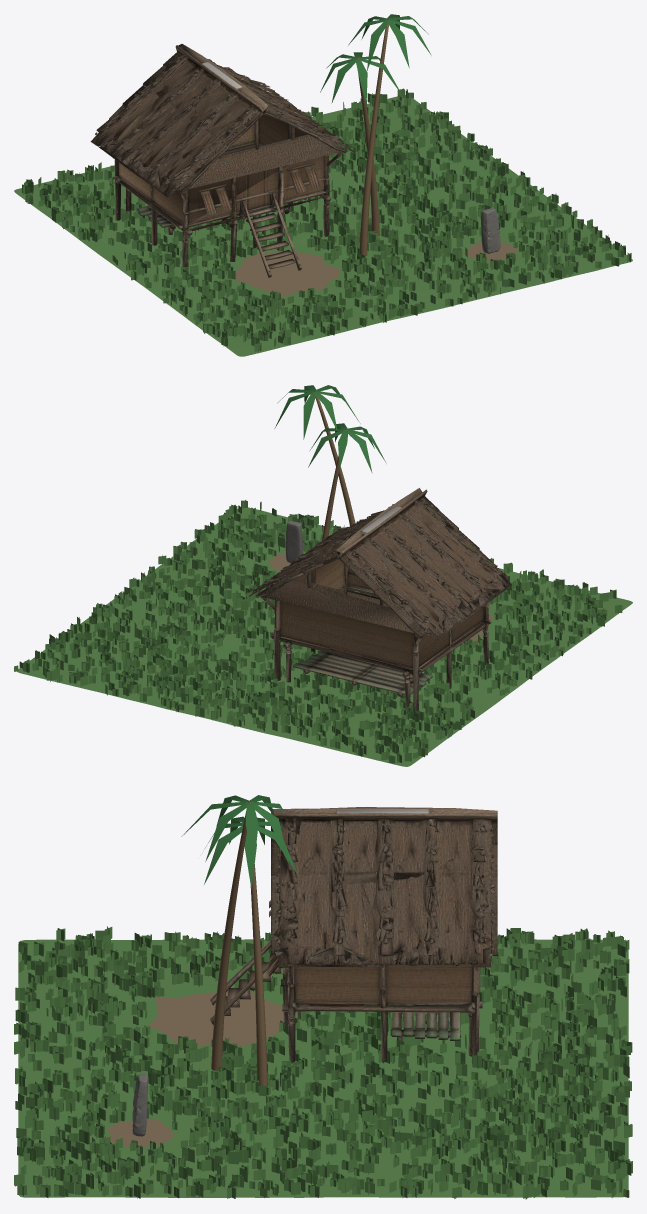
Rendered from sumut.glb.
3 views of the same model, one above another, from view 1: azimuth 30°, elevation 25°; view 2: azimuth 150°, elevation 25°; view 3: azimuth 270°, elevation 25° (orthographic). The views are drawn at different scales.
Parts seen in each view (by area): view 1: SceneProps, RumahPanggung; view 2: SceneProps, RumahPanggung; view 3: SceneProps, RumahPanggung.
Part boxes in pixels (x1,y1,x2,y2): SceneProps: (14,14,632,356); RumahPanggung: (90,44,353,277); SceneProps: (14,385,632,766); RumahPanggung: (249,488,512,712); SceneProps: (14,795,632,1199); RumahPanggung: (210,807,497,1063).
Size of the model in its own units: 20.32 by 10.52 by 20.28.
Materials: 2 (1 with a texture image).
